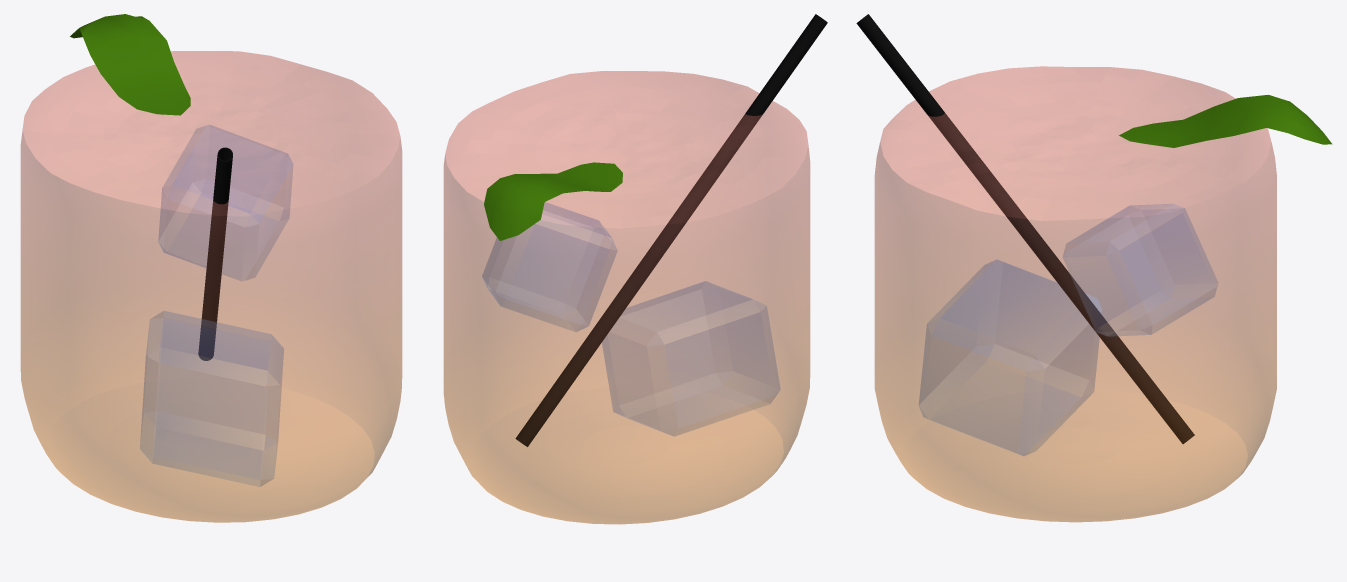
The model's file is OGDrink.fbx.
3 views of the same model, side by side, from view 1: azimuth 30°, elevation 25°; view 2: azimuth 150°, elevation 25°; view 3: azimuth 270°, elevation 25° (orthographic). The views are drawn at different scales.
Visible parts, largest first — view 1: Juice, Box002, Box001, Blatt, Line001; view 2: Juice, Box002, Box001, Line001, Blatt; view 3: Juice, Box002, Box001, Line001, Blatt.
Part boxes in pixels (box(x1,y1,x2,y2)): Juice: box(20, 51, 402, 522); Box002: box(140, 311, 283, 486); Box001: box(158, 125, 292, 280); Blatt: box(70, 14, 190, 115); Line001: box(198, 147, 232, 360); Juice: box(443, 71, 810, 524); Box002: box(602, 281, 780, 436); Box001: box(482, 202, 617, 331); Line001: box(515, 14, 827, 446); Blatt: box(484, 162, 622, 240); Juice: box(874, 66, 1276, 522); Box002: box(919, 260, 1099, 455); Box001: box(1063, 204, 1217, 336); Line001: box(856, 14, 1194, 443); Blatt: box(1119, 94, 1332, 147).
Bounding box in the file's own units: 62.83 × 81.5 × 78.49.
